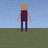person: (18, 3, 30, 31)
